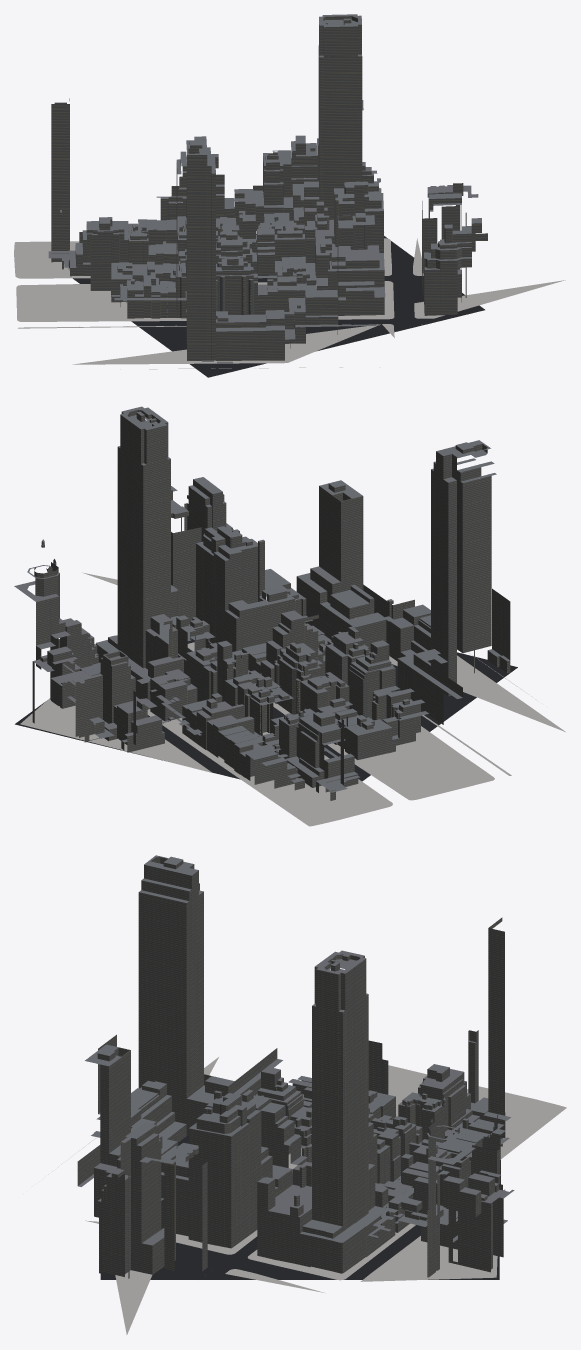
The picture shows the model from 3 angles, top to bottom: view 1: azimuth 30°, elevation 25°; view 2: azimuth 150°, elevation 25°; view 3: azimuth 270°, elevation 25°; orthographic projection. The views are drawn at different scales.
Parts seen in each view (by area): view 1: t6_3, detail; view 2: t6_3, detail; view 3: t6_3, detail.
Part boxes in pixels (bbox=[...]): t6_3: bbox=[48, 14, 487, 377]; detail: bbox=[14, 231, 565, 369]; t6_3: bbox=[14, 406, 517, 800]; detail: bbox=[20, 572, 565, 826]; t6_3: bbox=[77, 855, 514, 1279]; detail: bbox=[48, 1057, 566, 1334].
Bounding box in the file's own units: 416 × 202 × 346.
Materials: 4 (2 with a texture image).
